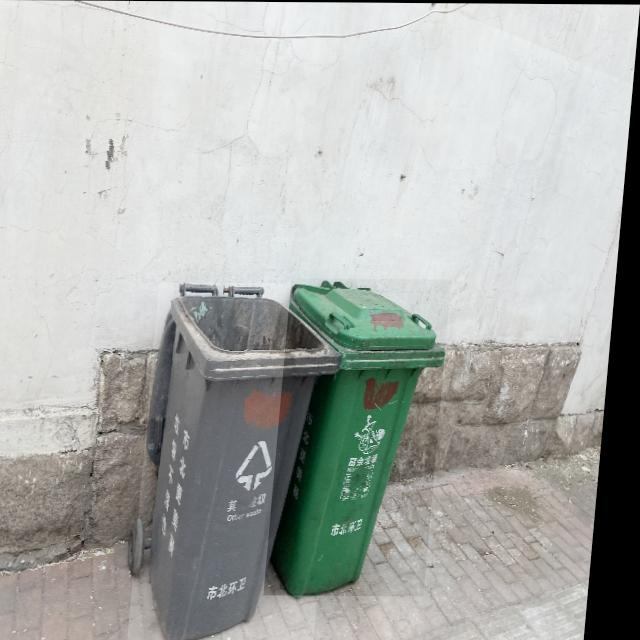garbage_bin: (139, 282, 351, 640), (275, 278, 457, 596)
